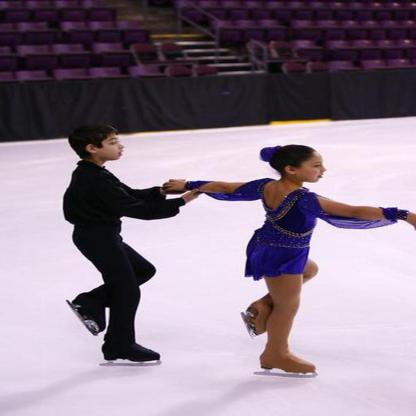face: (298, 151, 327, 184), (94, 133, 124, 160)
